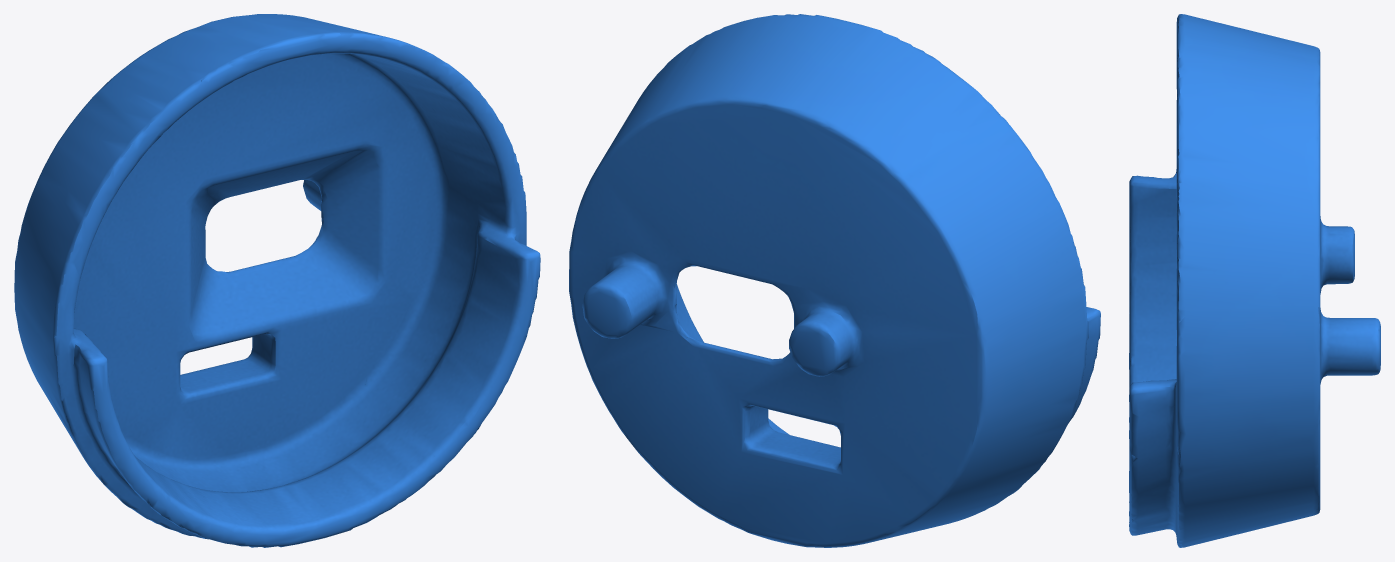
File: right_wrist.obj
3 views of the same model, side by side, from view 1: azimuth 30°, elevation 25°; view 2: azimuth 150°, elevation 25°; view 3: azimuth 270°, elevation 25° (orthographic). The views are drawn at different scales.
Visible parts, largest first — view 1: right_wrist; view 2: right_wrist; view 3: right_wrist.
Boxes of the visible parts, x1,y1,x2,y2 form: right_wrist: (14, 14, 540, 547); right_wrist: (569, 14, 1100, 547); right_wrist: (1129, 14, 1380, 547).
Size of the model in its own units: 0.0516 by 0.0516 by 0.0243.
Materials: 1 (1 with a texture image).
